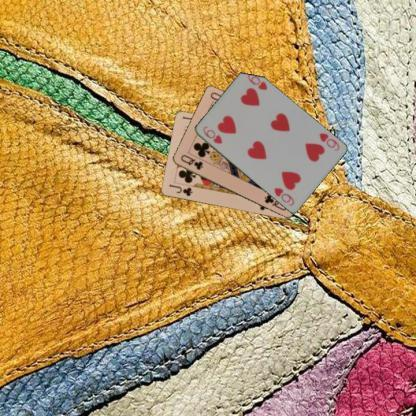6h: (316, 130, 340, 152), (200, 124, 223, 145)
Jc: (166, 182, 194, 198)
Qc: (178, 152, 204, 171)
